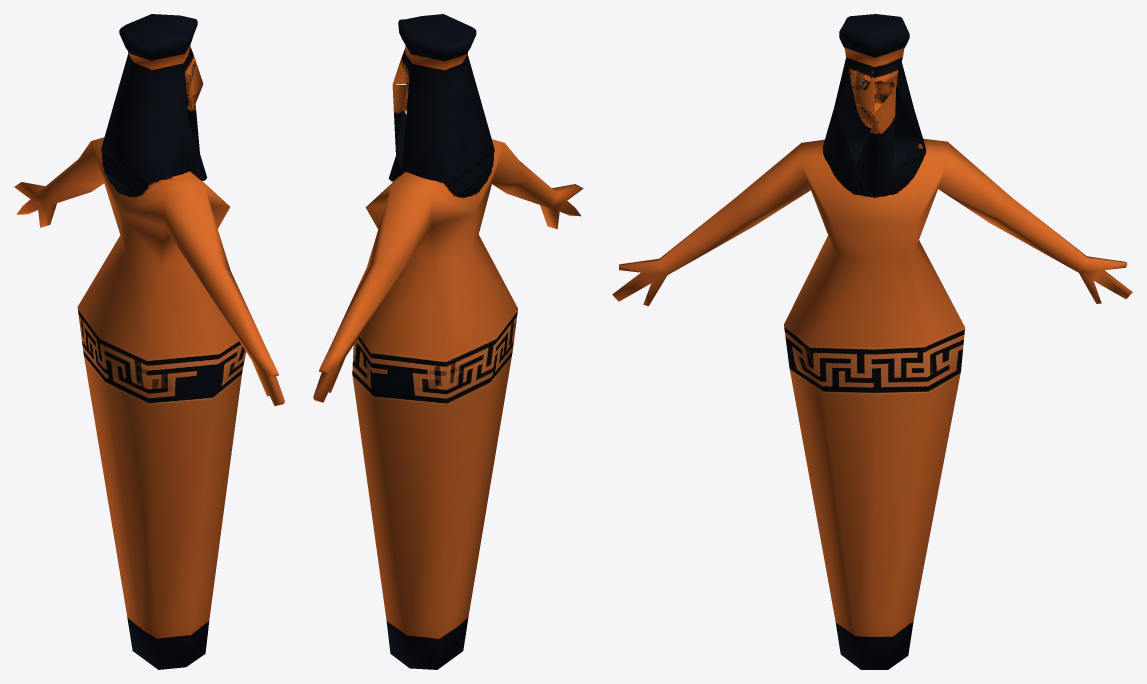
3 views of the same model, side by side, from view 1: azimuth 30°, elevation 25°; view 2: azimuth 150°, elevation 25°; view 3: azimuth 270°, elevation 25° (orthographic).
Parts seen in each view (by area): view 1: tripo_node_ad6b93a1-1ada-4b4b-bf36-b8410419fbbe; view 2: tripo_node_ad6b93a1-1ada-4b4b-bf36-b8410419fbbe; view 3: tripo_node_ad6b93a1-1ada-4b4b-bf36-b8410419fbbe.
Boxes of the visible parts, bbox=[...] form: tripo_node_ad6b93a1-1ada-4b4b-bf36-b8410419fbbe: bbox=[14, 14, 284, 669]; tripo_node_ad6b93a1-1ada-4b4b-bf36-b8410419fbbe: bbox=[313, 14, 583, 669]; tripo_node_ad6b93a1-1ada-4b4b-bf36-b8410419fbbe: bbox=[612, 14, 1132, 669].
Size of the model in its own units: 0.2012 by 0.998 by 0.752.
1 material, 1 textured.
